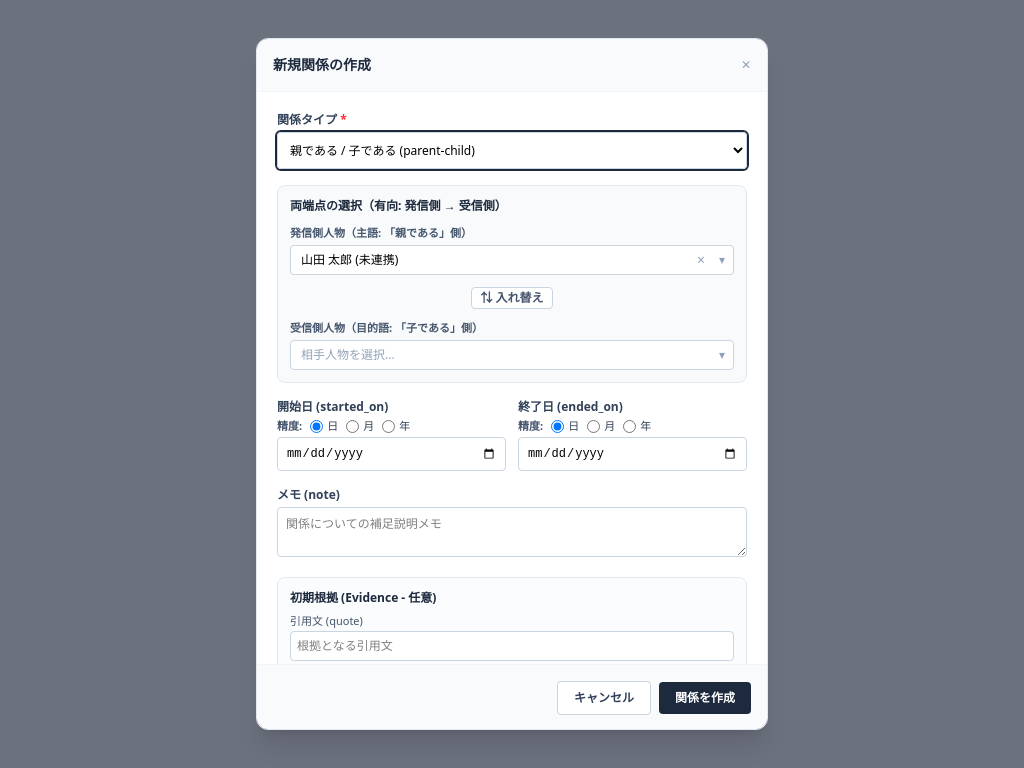
Test: Person Relations UI Components › RelationFormModal rejects relations detached from the current person
Focus the dropdown with placeholder "相手人物を選択..." at (501, 355), box left=291, top=341, right=711, bottom=369
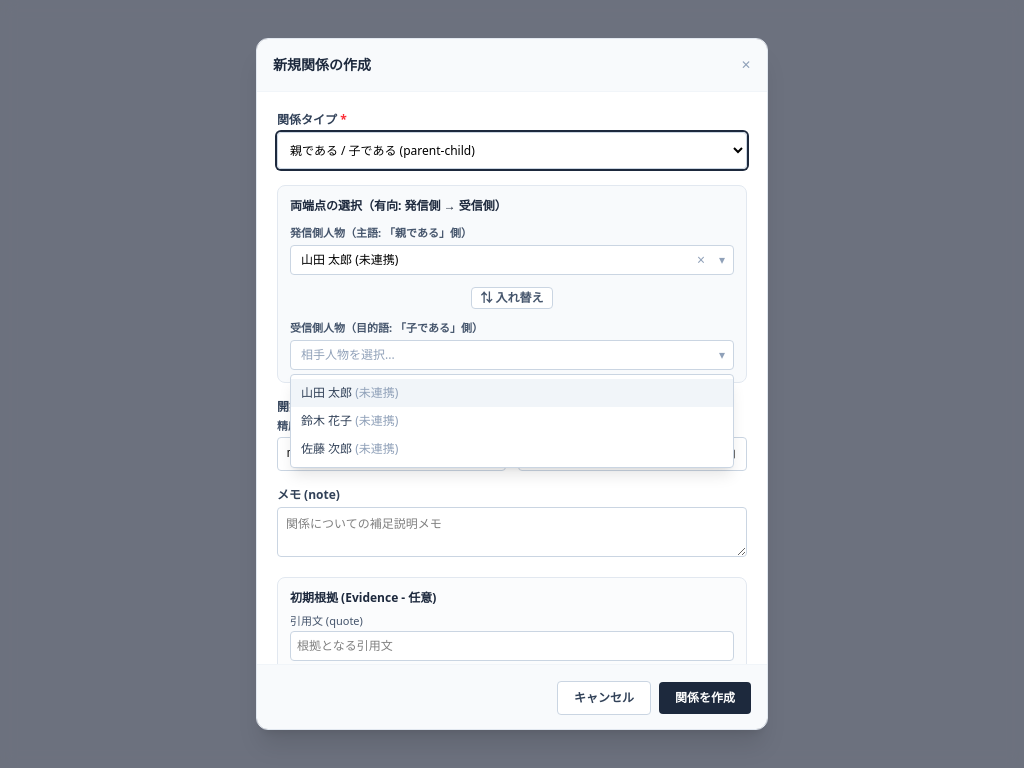
Expected: the option "鈴木 花子 (未連携)" is shown
Click the option "鈴木 花子 (未連携)" at (327, 420), box left=291, top=407, right=733, bottom=435
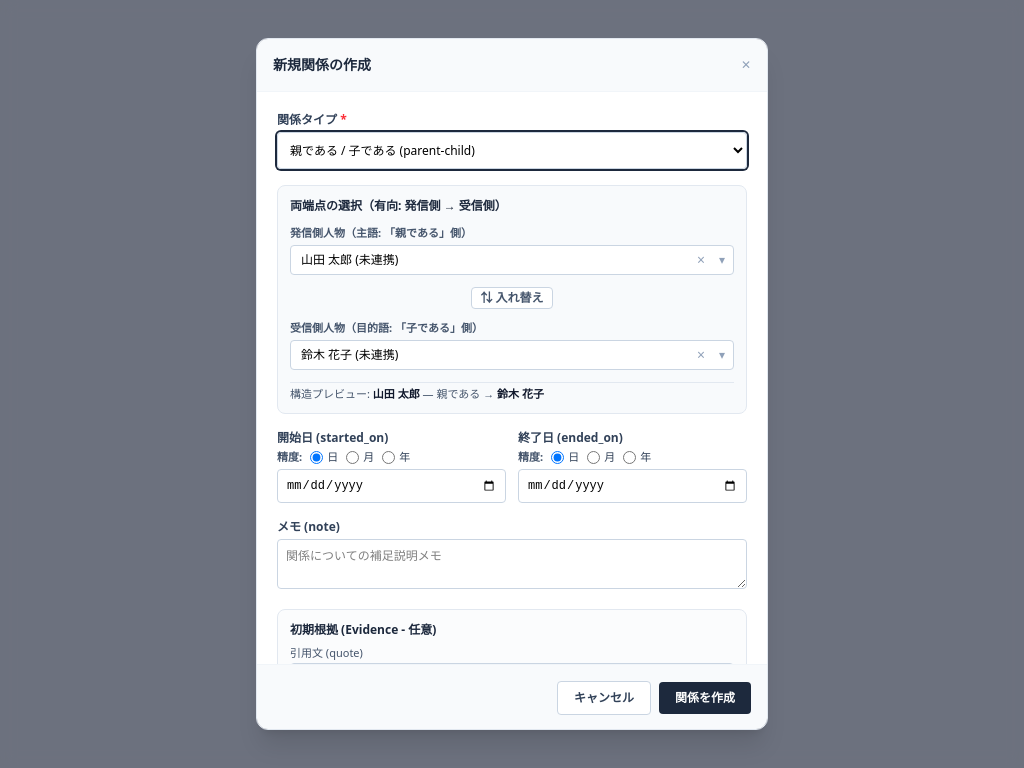
Focus the dropdown with placeholder "発信人物を選択..." below "発信側人物（主語: 「" at (491, 260), box left=291, top=246, right=691, bottom=274
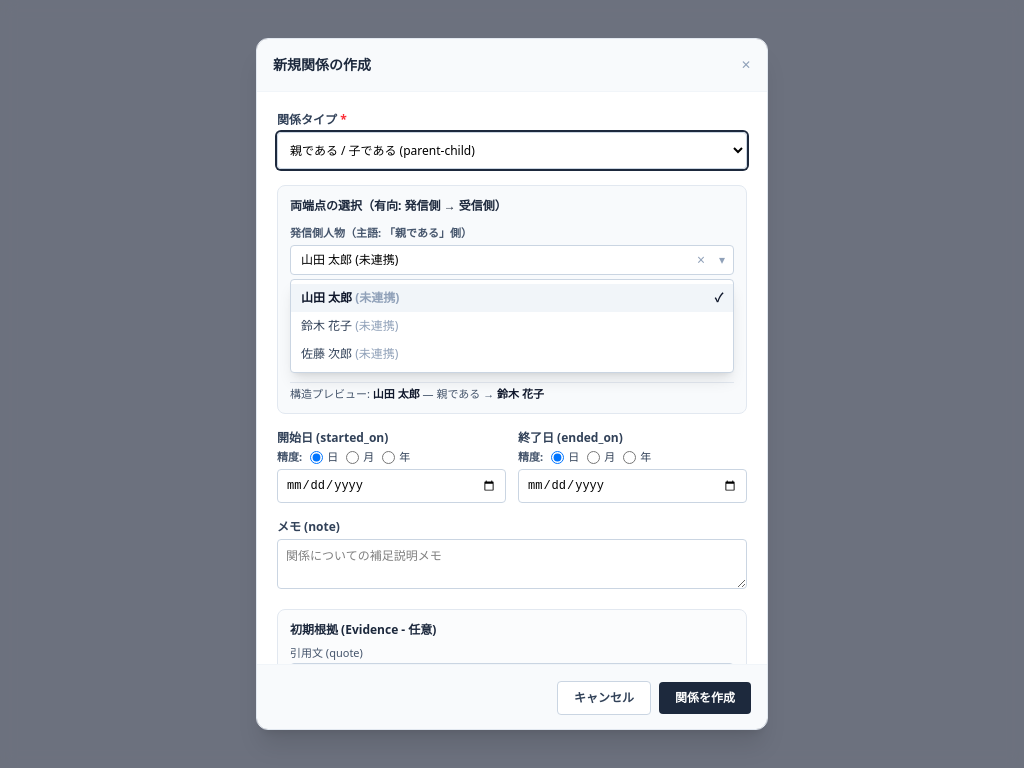
Expected: the option "佐藤 次郎 (未連携)" is shown
Click the option "佐藤 次郎 (未連携)" at (327, 354), box left=291, top=340, right=733, bottom=368
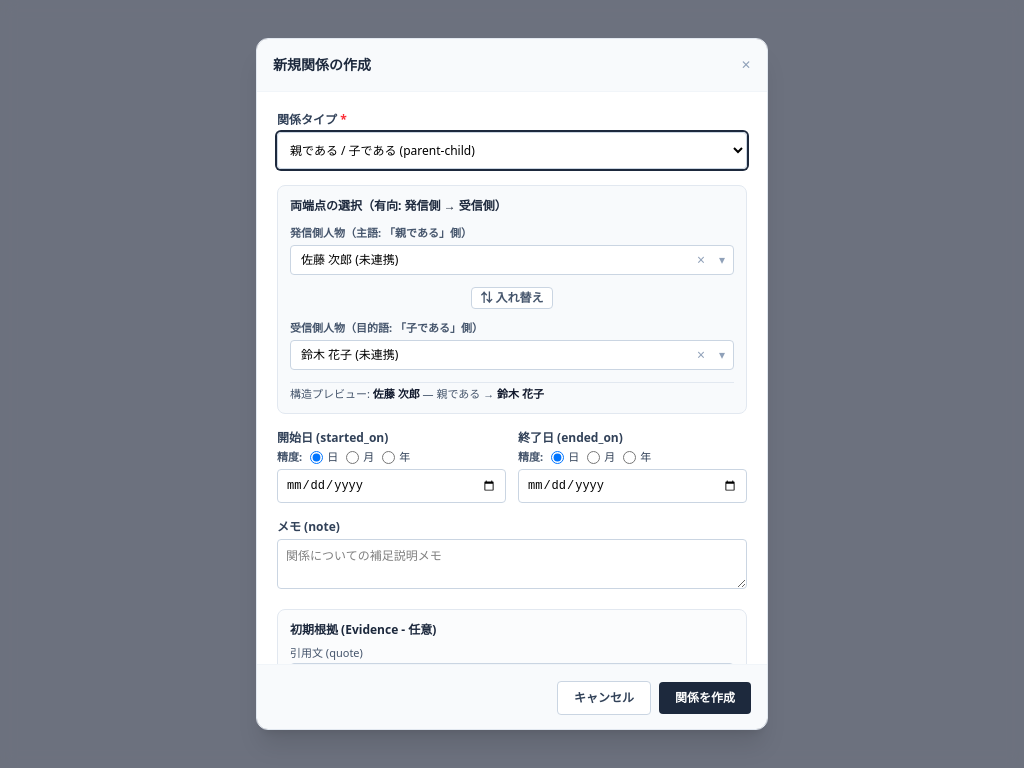
Click the button "関係を作成" at (705, 698), box left=659, top=682, right=751, bottom=714
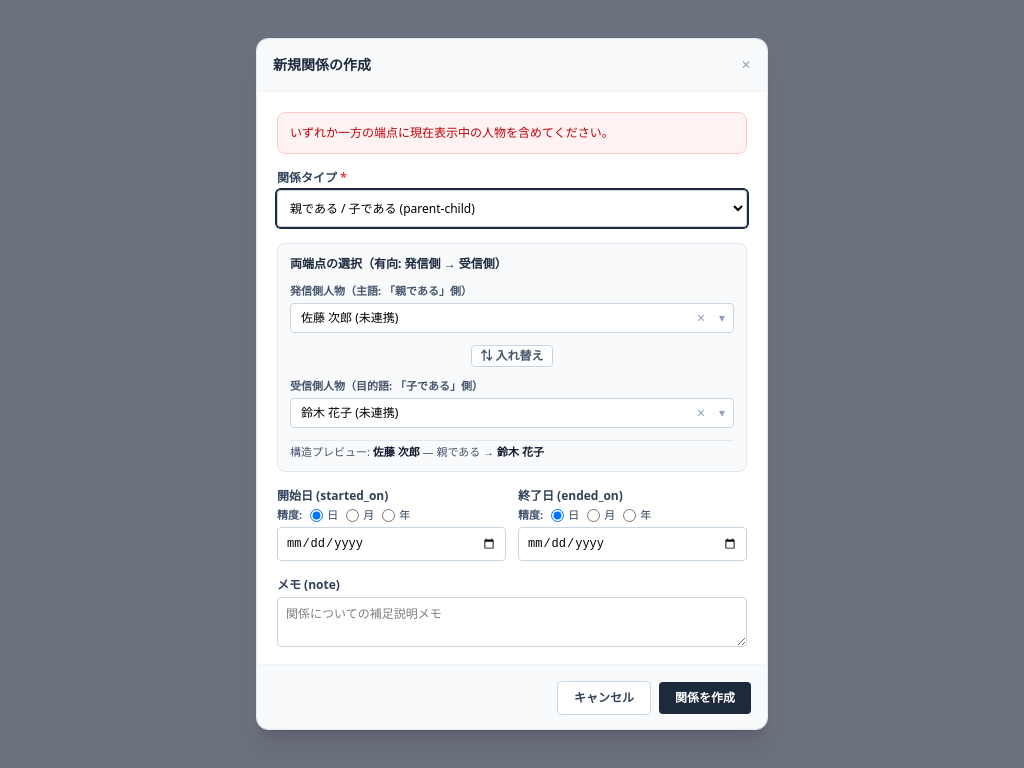
Expected: the text "いずれか一方の端点に現在表示中の人物を含めてください。" is shown, left=277, top=112, right=747, bottom=154
